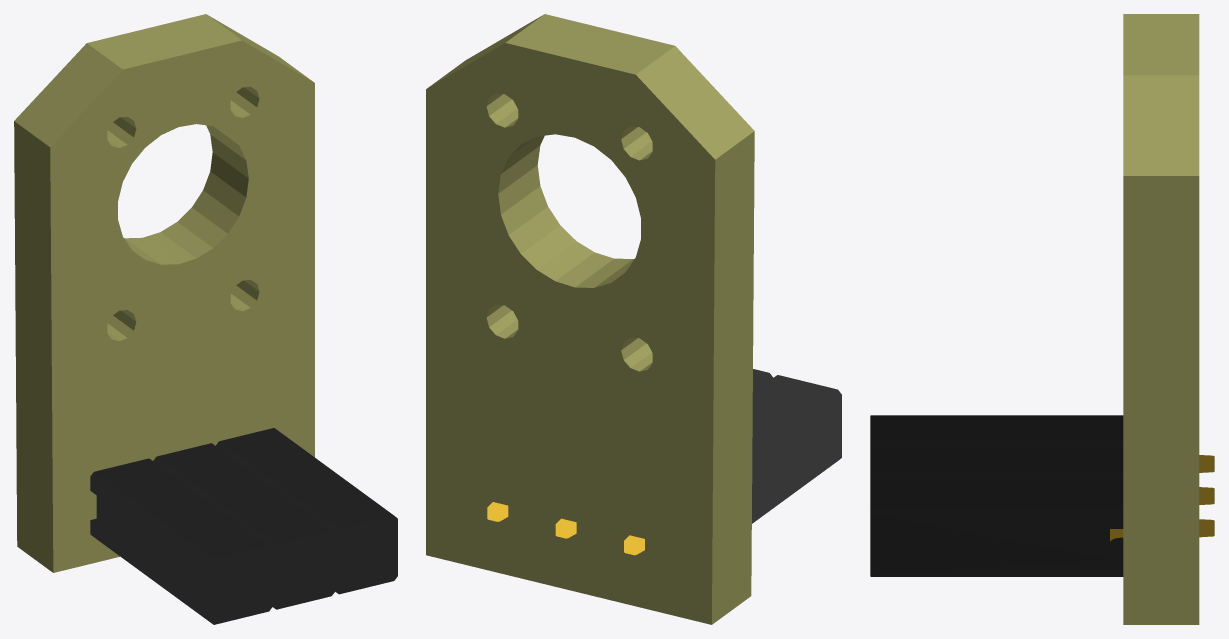
Rendered from OBJ_PCB_Sensor_PCB_V2.obj.
3 renders of one model, left to right at view 1: azimuth 30°, elevation 25°; view 2: azimuth 150°, elevation 25°; view 3: azimuth 270°, elevation 25°, orthographic. The views are drawn at different scales.
Bounding box in the file's own units: 42.3 × 74.3 × 45.27.
